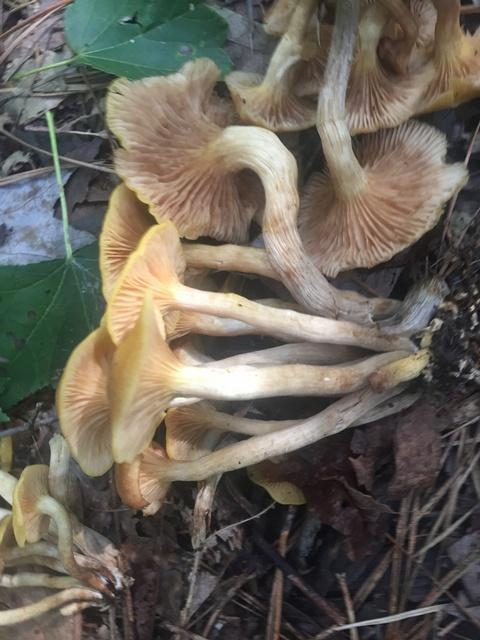edible_mushroom: (46, 2, 480, 516)
